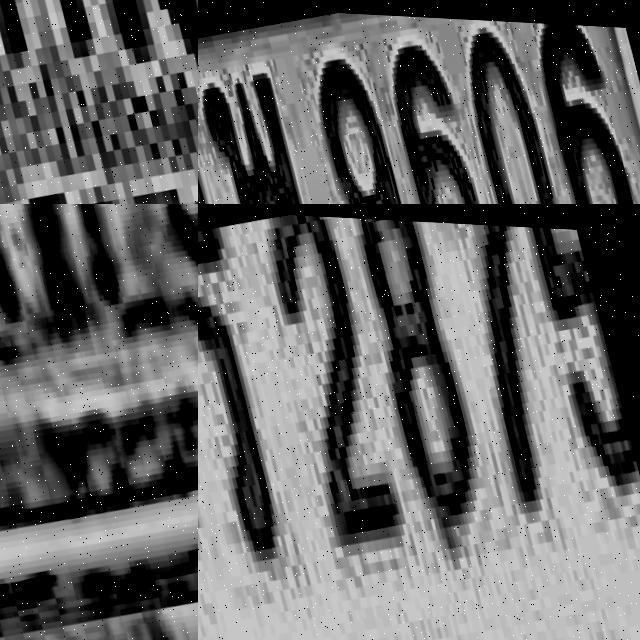license-plate: (198, 204, 640, 640), (198, 0, 640, 204), (0, 204, 198, 640), (0, 0, 198, 204)
